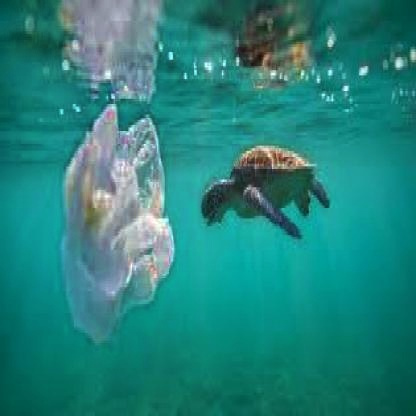pbag: (59, 101, 177, 351)
